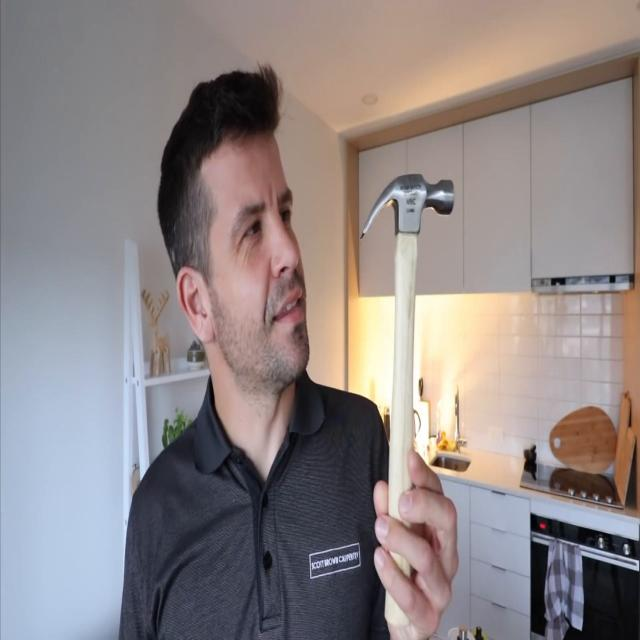hammer: (359, 173, 452, 628)
